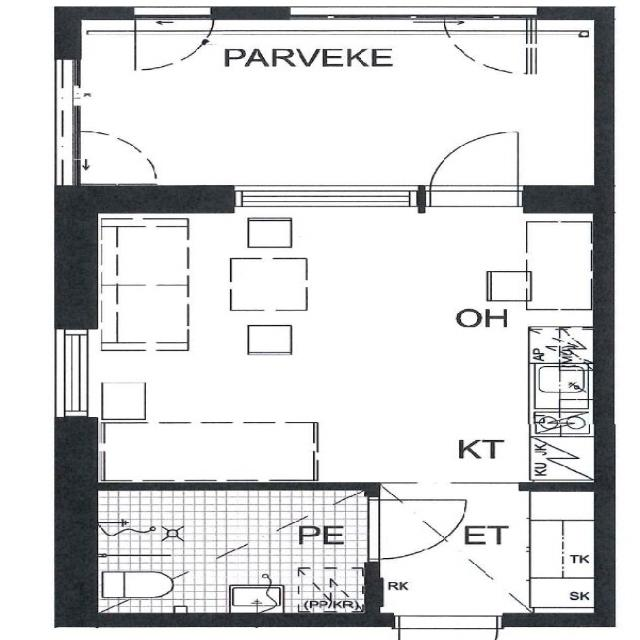door: (430, 126, 518, 213), (364, 499, 466, 558)
